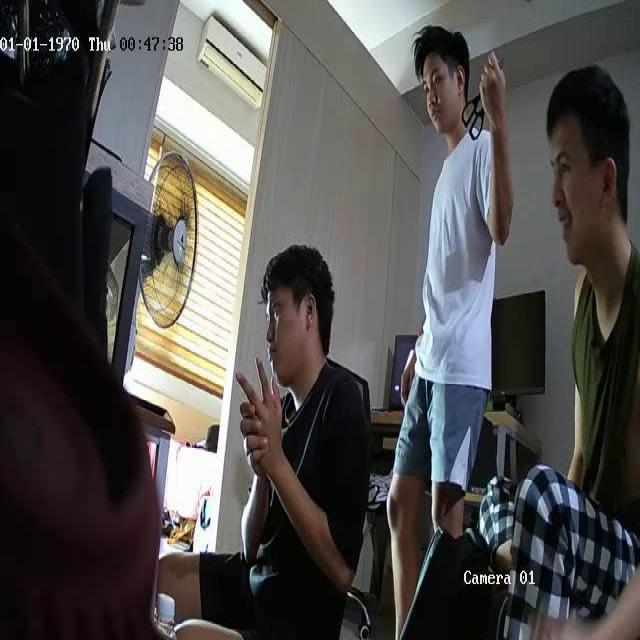scissor: (461, 57, 505, 139)
